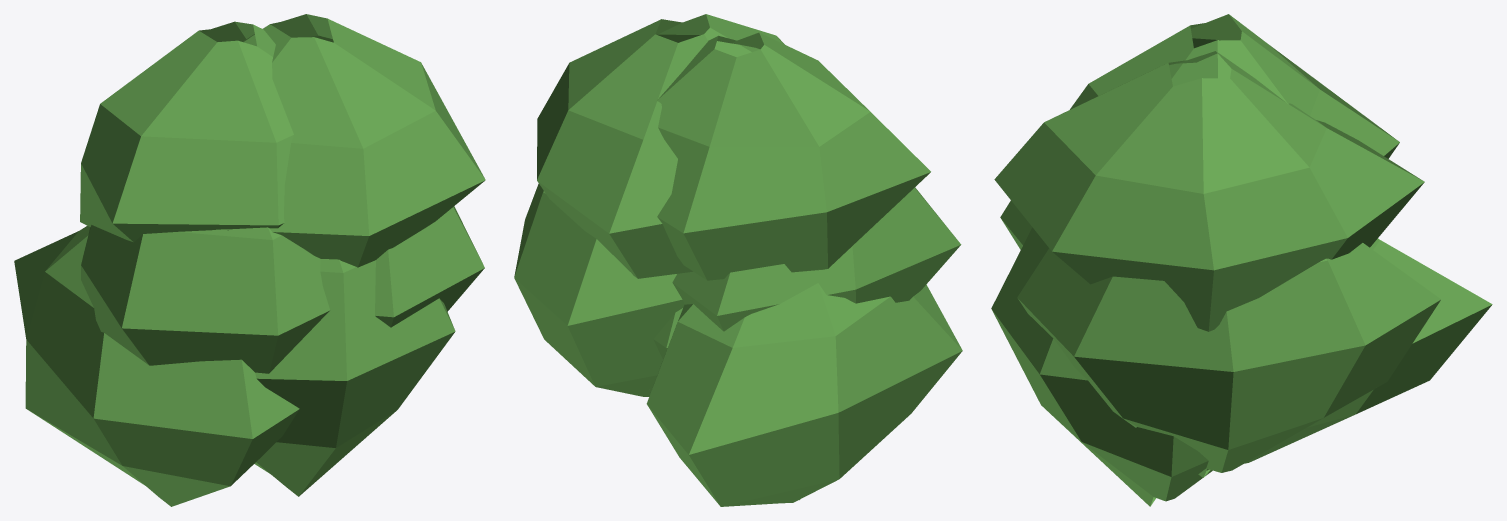
File: bush_02.glb
3 views of the same model, side by side, from view 1: azimuth 30°, elevation 25°; view 2: azimuth 150°, elevation 25°; view 3: azimuth 270°, elevation 25° (orthographic). The views are drawn at different scales.
Visible parts, largest first — view 1: BUSH_02; view 2: BUSH_02; view 3: BUSH_02.
Part boxes in pixels (x1,y1,x2,y2): BUSH_02: (14,14,485,506); BUSH_02: (514,14,962,506); BUSH_02: (991,14,1492,506).
Size of the model in its own units: 1.57 by 1.74 by 1.68.
